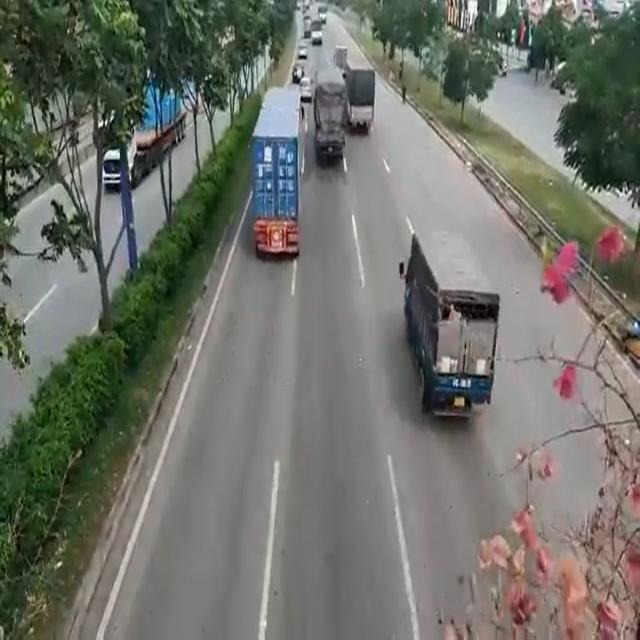truck: (398, 234, 497, 414), (260, 80, 299, 268), (338, 38, 379, 125), (314, 66, 348, 166)
